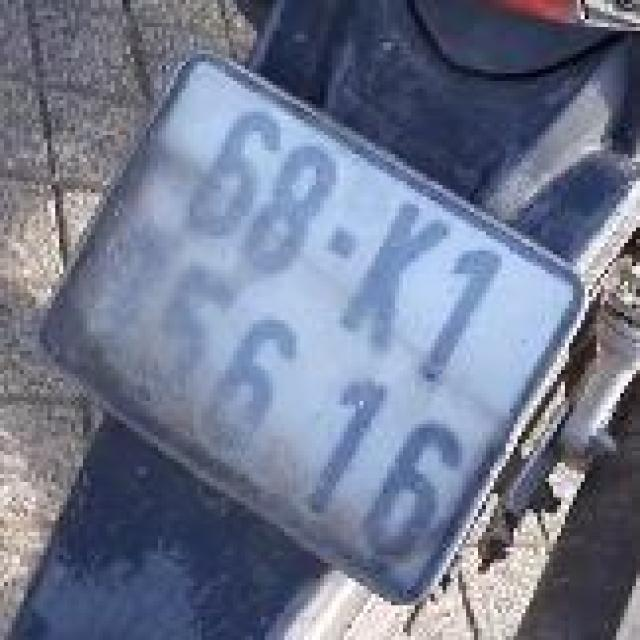1: (286, 362, 412, 525), (405, 231, 525, 398)
5: (117, 252, 258, 415)
6: (179, 299, 330, 468), (345, 402, 488, 578), (177, 94, 298, 255)
8: (222, 121, 362, 301)
K: (322, 187, 476, 375)
